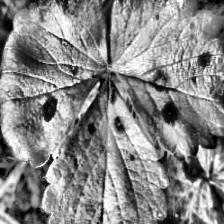Leaf Spot: (39, 76, 170, 224), (0, 0, 110, 169), (109, 0, 224, 156), (137, 139, 222, 224)
